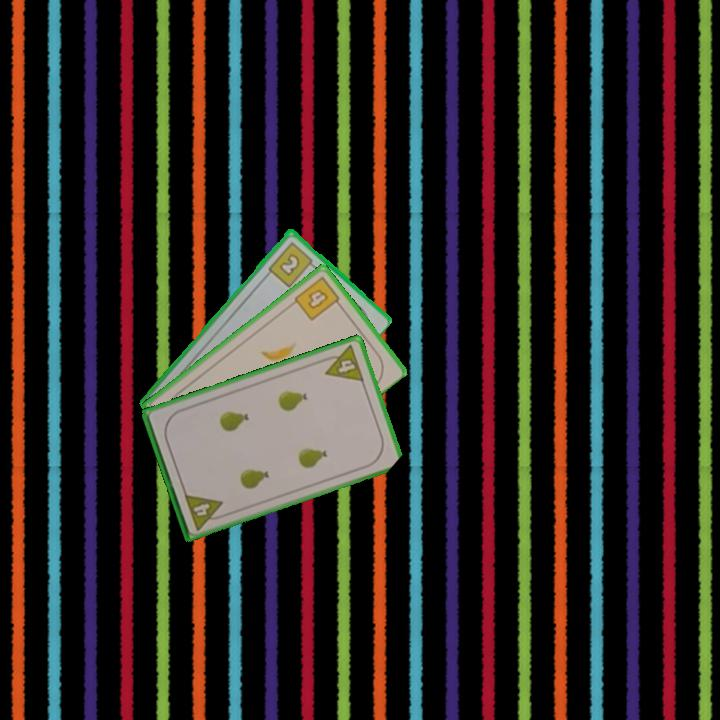2b: (265, 238, 319, 290)
4b: (290, 273, 345, 324)
4p: (317, 341, 367, 385), (181, 490, 229, 533)
